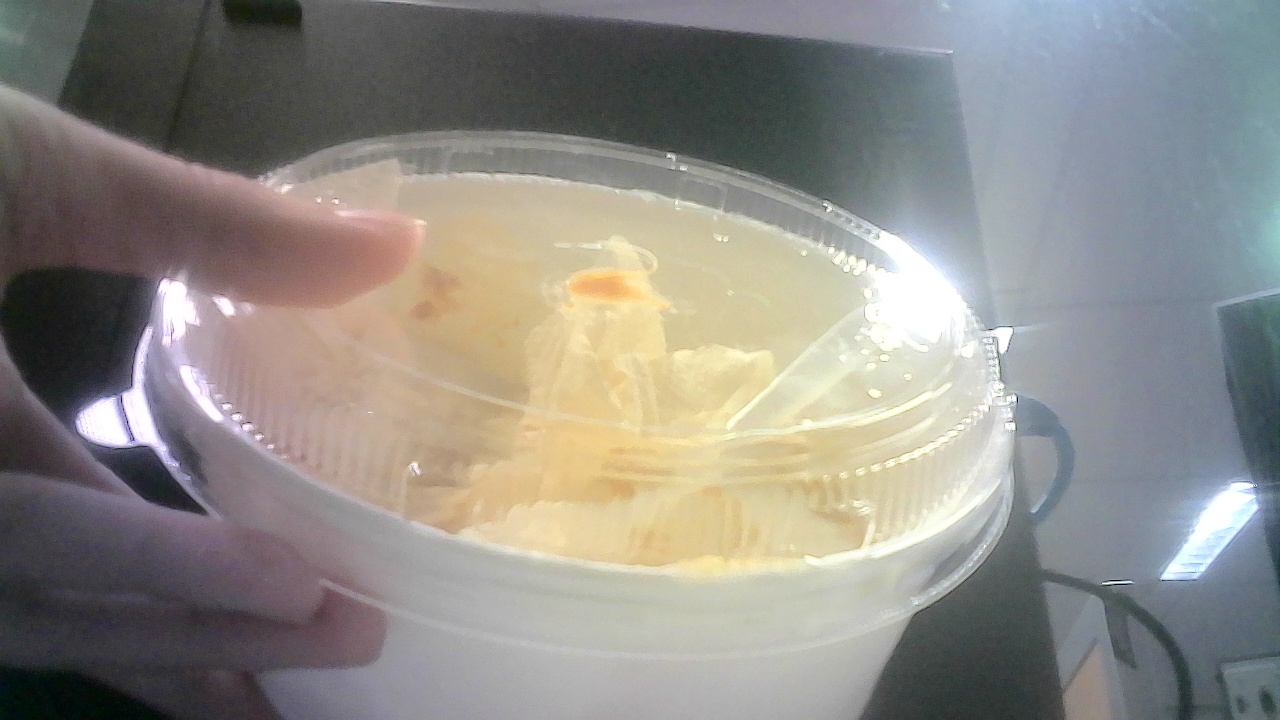Undefined_Waste: (108, 83, 1034, 720)
